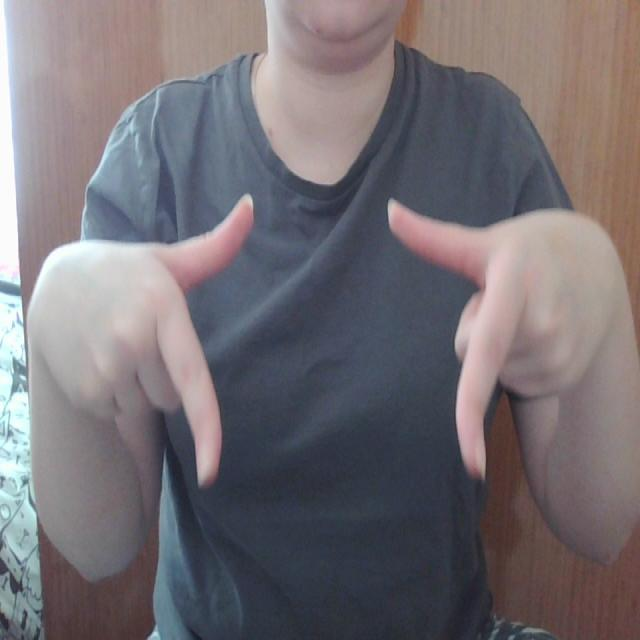Nerede: (140, 189, 510, 493)
